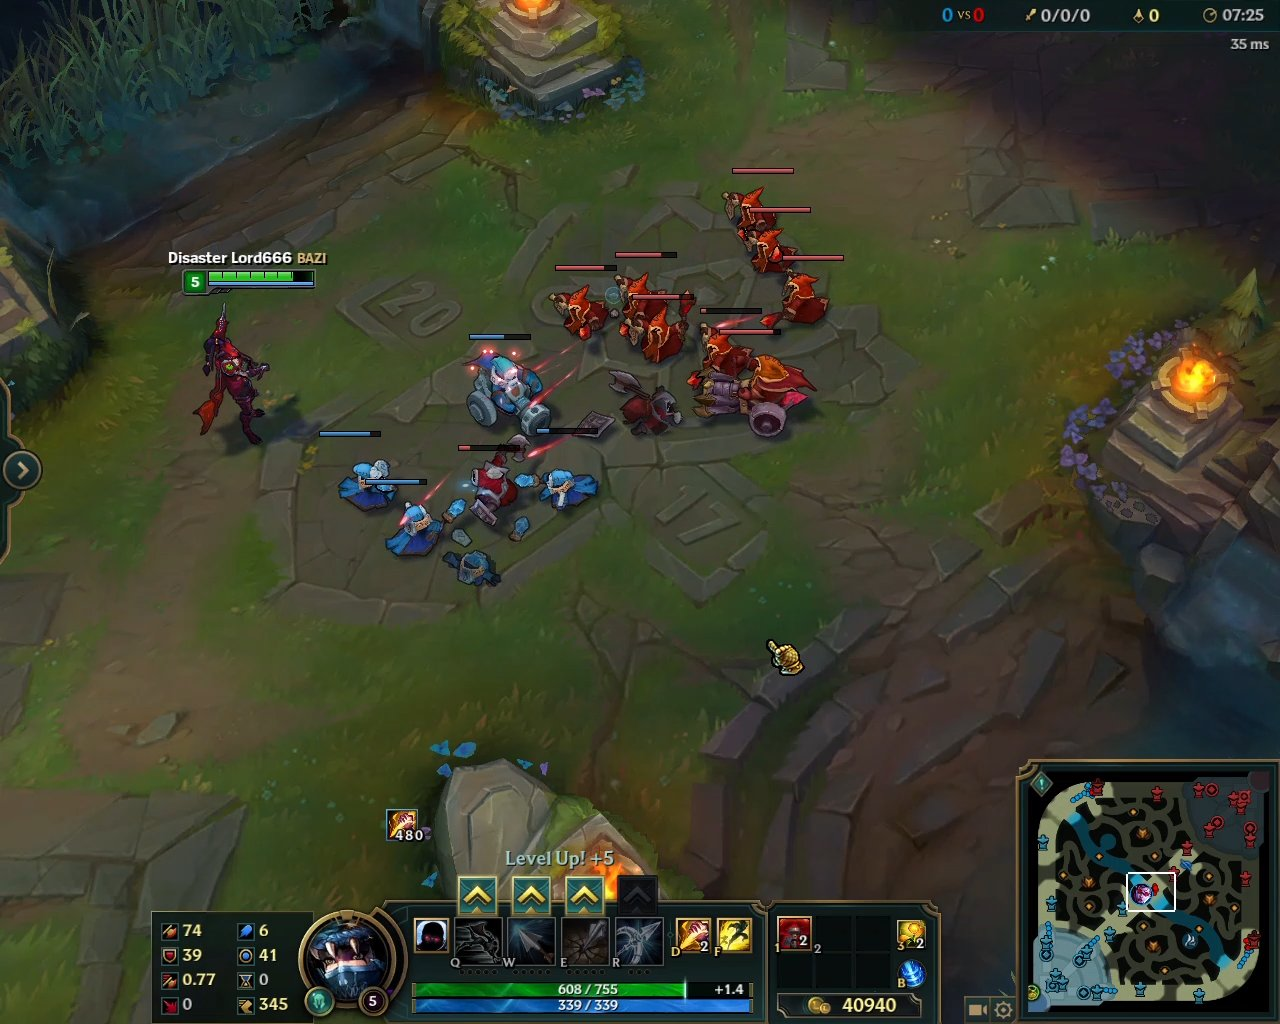EnemyMinion: (685, 329, 816, 448), (758, 253, 844, 331), (543, 261, 621, 347), (457, 443, 531, 527), (717, 169, 796, 245), (614, 250, 679, 336), (625, 290, 698, 364), (740, 207, 813, 274)
Vayne: (181, 298, 288, 456)
